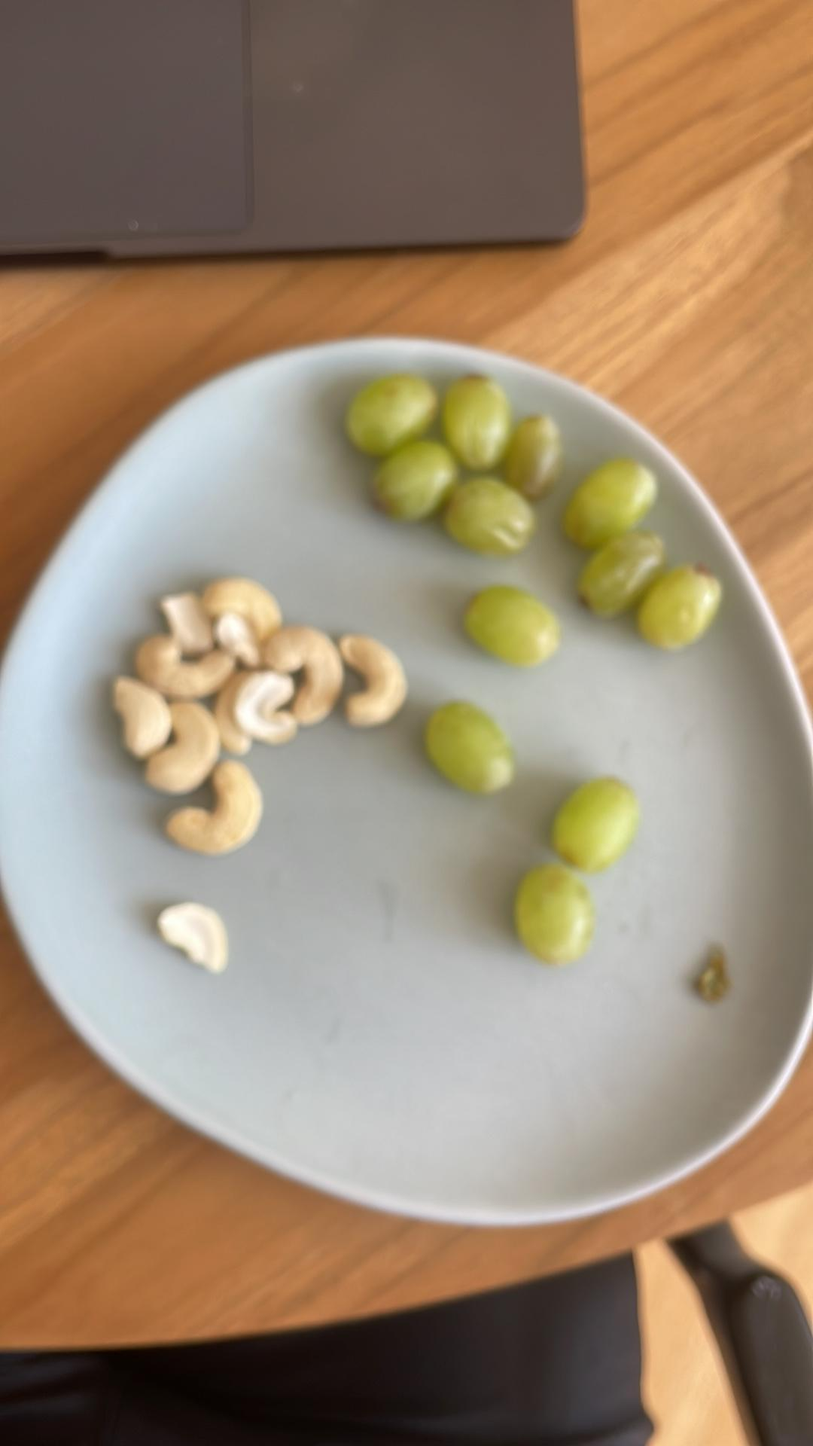grape: (560, 452, 653, 546), (430, 700, 511, 796), (517, 861, 588, 967), (469, 583, 560, 665), (553, 776, 633, 869), (445, 478, 542, 551), (366, 440, 448, 520), (645, 562, 712, 653), (590, 533, 659, 616), (353, 378, 432, 446), (507, 409, 564, 498), (449, 380, 501, 470)
